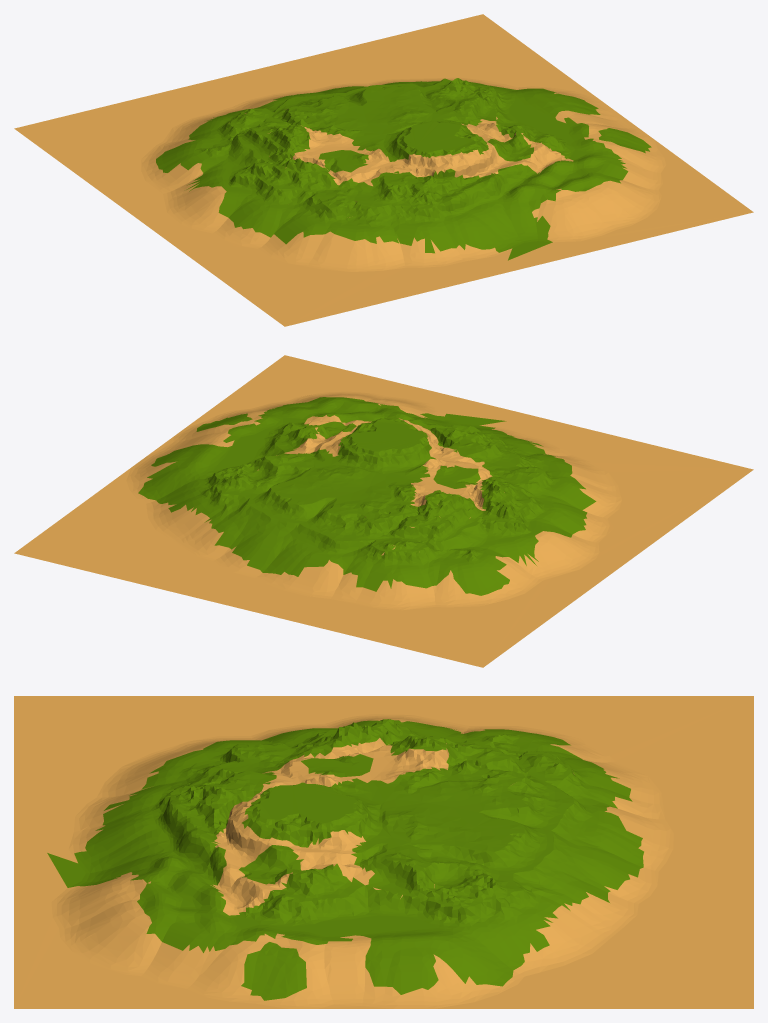
File: grassy_hill.glb
3 renders of one model, top to bottom at view 1: azimuth 30°, elevation 25°; view 2: azimuth 150°, elevation 25°; view 3: azimuth 270°, elevation 25°, orthographic. The views are drawn at different scales.
Parts seen in each view (by area): view 1: Landscape; view 2: Landscape; view 3: Landscape.
Part boxes in pixels (x1,y1,x2,y2): Landscape: (14, 14, 753, 326); Landscape: (14, 355, 753, 667); Landscape: (14, 696, 753, 1008).
Size of the model in its own units: 5 by 0.4946 by 5.
